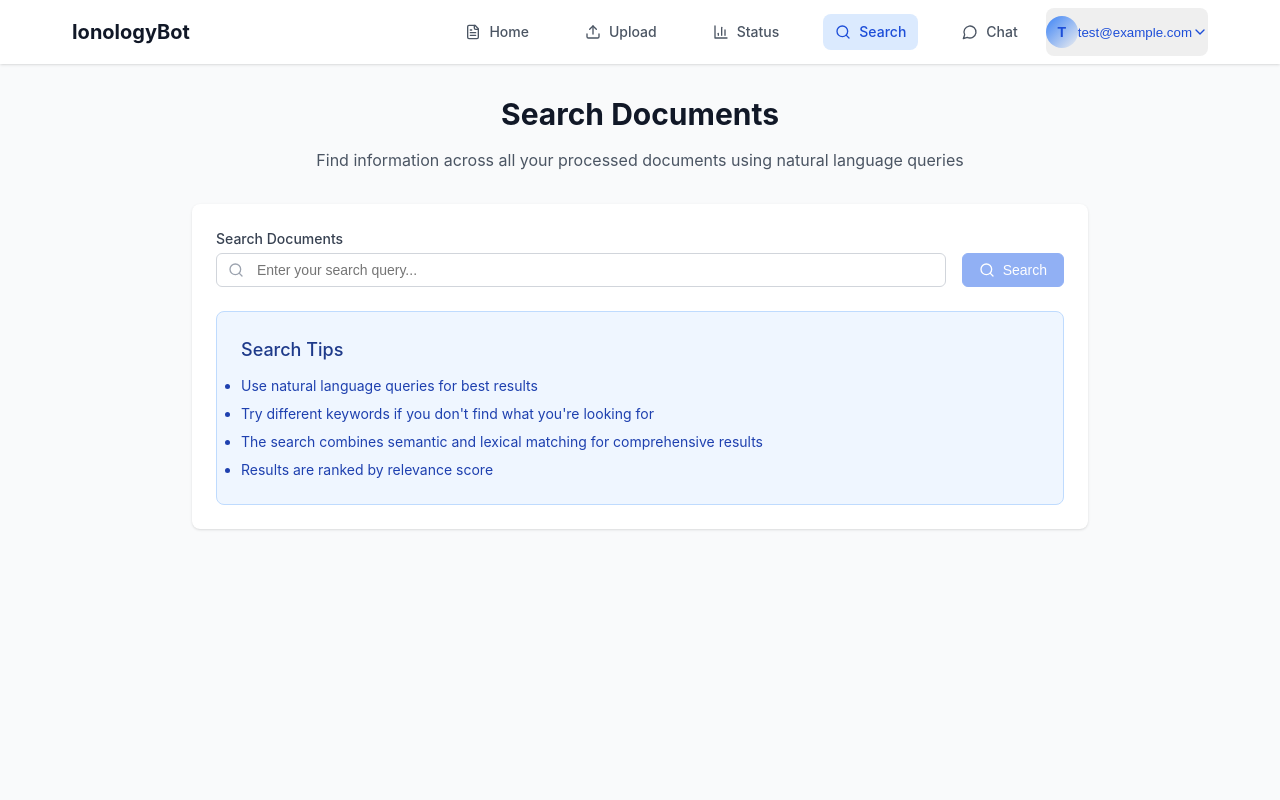
Chat Integration Tests › SearchPage functionality remains unchanged
This screenshot has width=1280, height=800.
Type "test query" into the field labelled "Search Documents".
click(581, 270); type("test query")  # box [216,253,946,287]
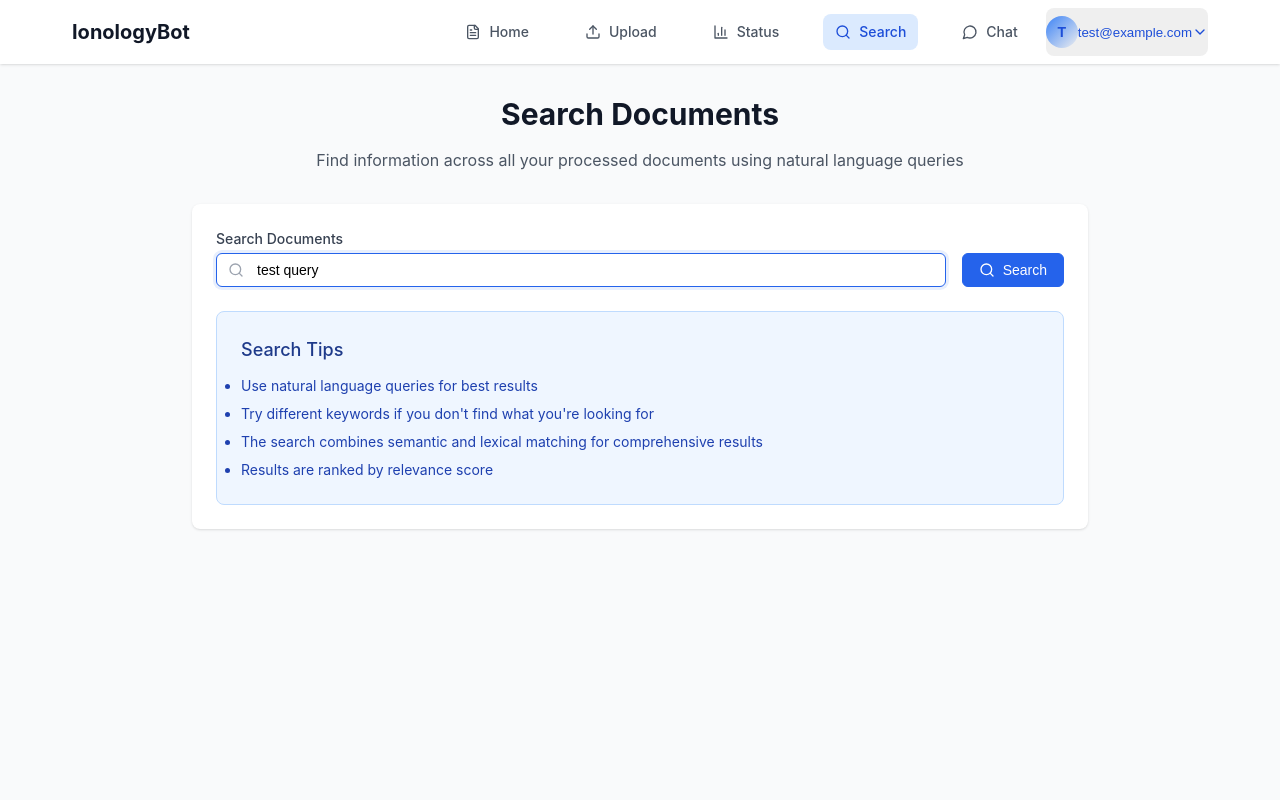
Click the button "Search".
click(1013, 270)  # box [962,253,1064,287]
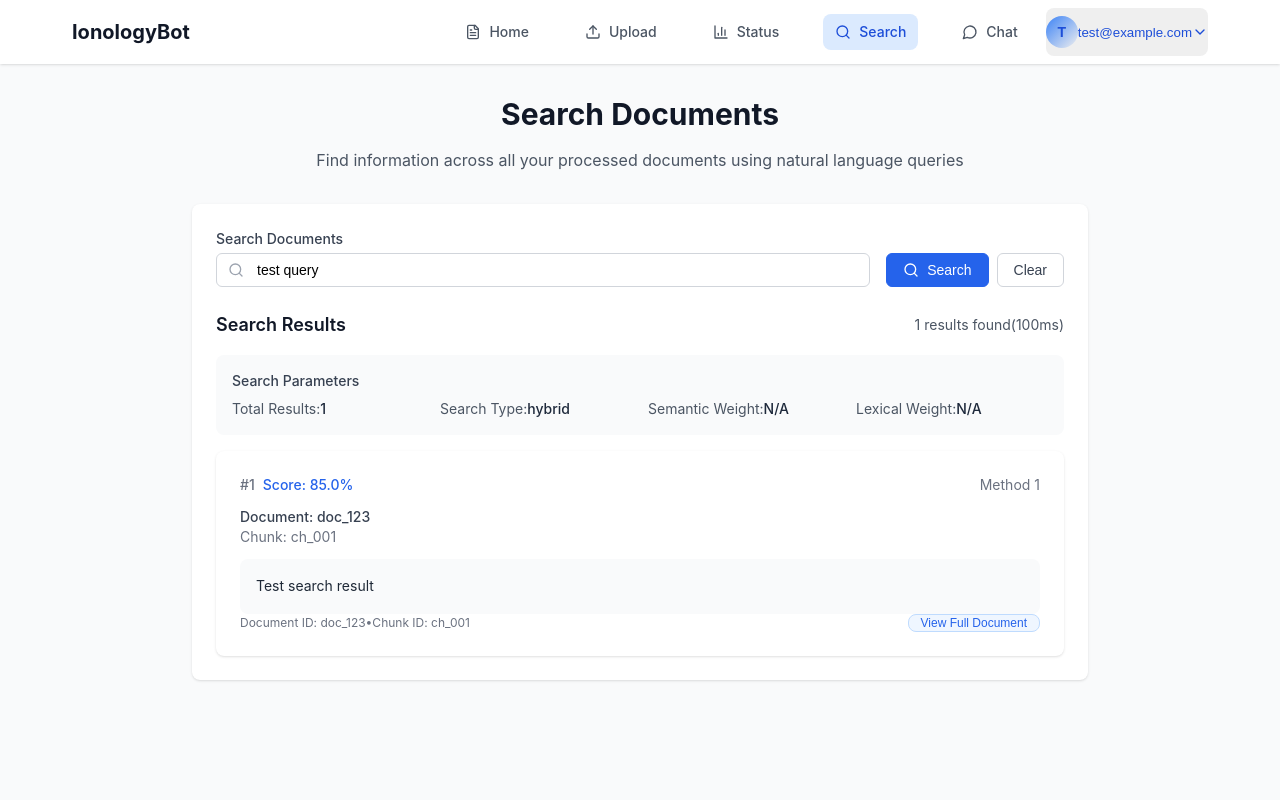
Result: the heading "Search Results" is shown at [216,311,346,339]
